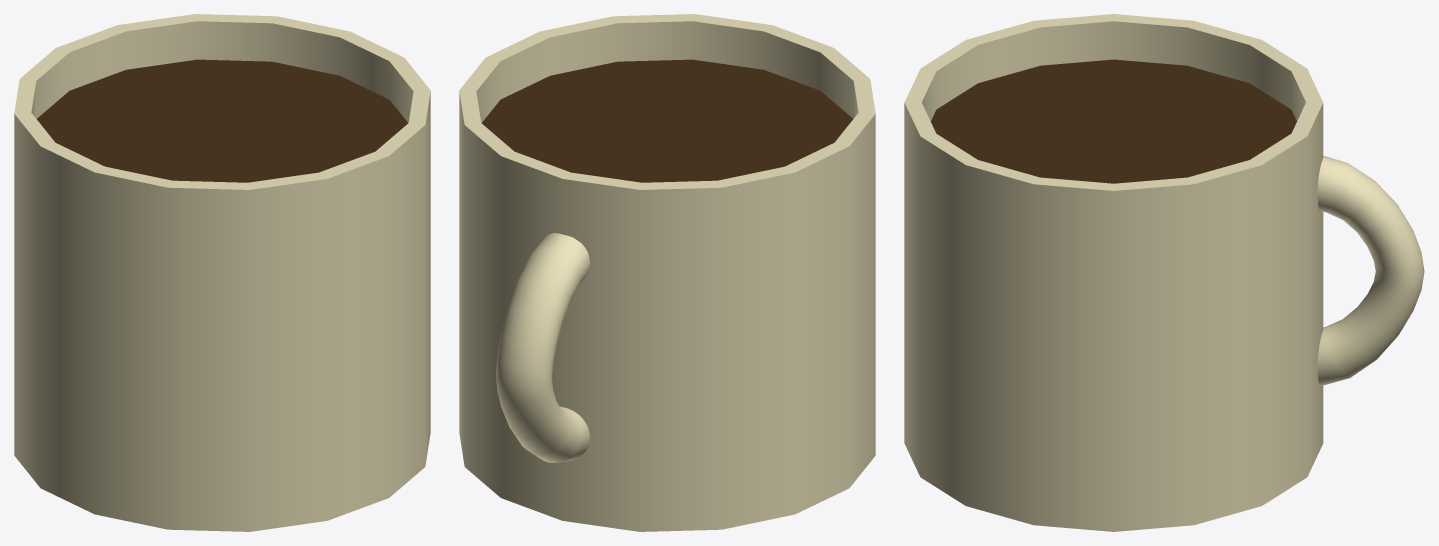
The model's file is cup.fbx.
The picture shows the model from 3 angles, left to right: view 1: azimuth 30°, elevation 25°; view 2: azimuth 150°, elevation 25°; view 3: azimuth 270°, elevation 25°; orthographic projection.
Visible parts, largest first — view 1: Cup, Coffee; view 2: Cup, Coffee; view 3: Cup, Coffee.
Boxes of the visible parts, x1=… form: Cup: x1=14, y1=14, x2=430, y2=531; Coffee: x1=37, y1=59, x2=408, y2=182; Cup: x1=459, y1=14, x2=875, y2=531; Coffee: x1=481, y1=59, x2=852, y2=182; Cup: x1=904, y1=14, x2=1424, y2=531; Coffee: x1=930, y1=59, x2=1296, y2=183.
Bounding box in the file's own units: 180 × 162 × 223.
